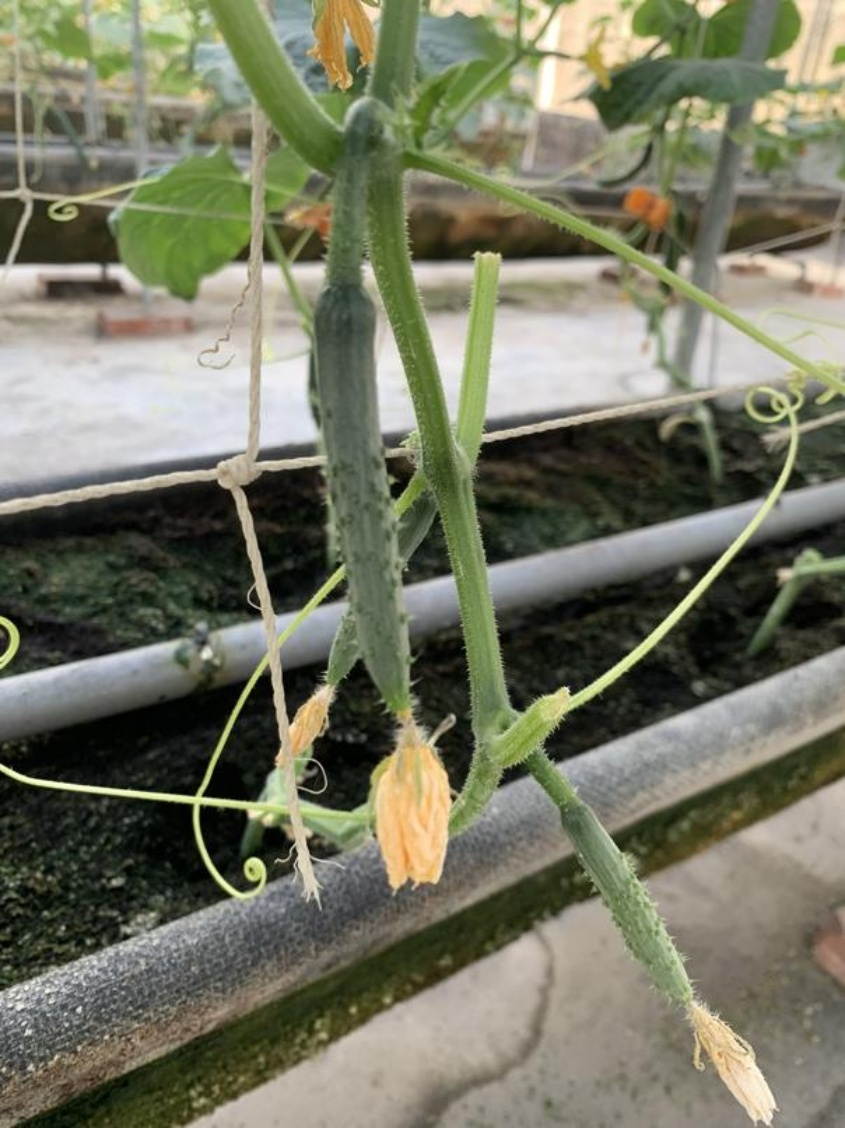growth: (296, 270, 431, 826)
